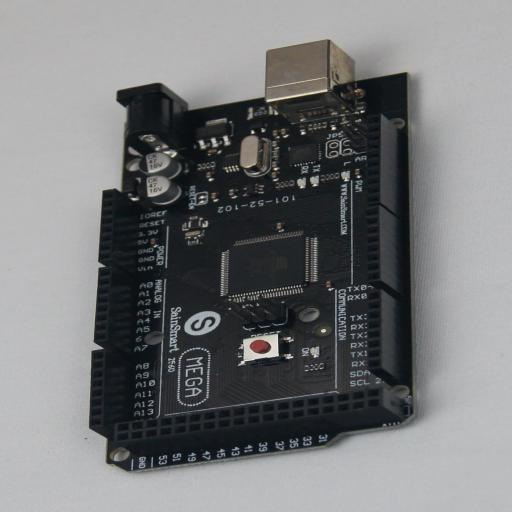Arduino Mega 2560 -Black-: (89, 39, 420, 472)
